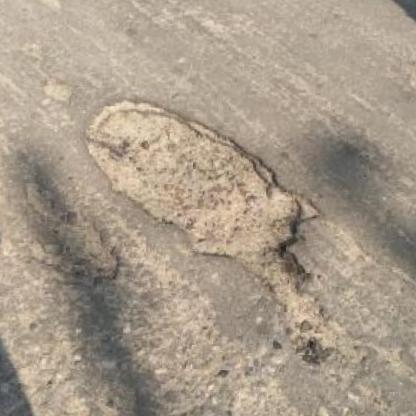pothole: (77, 93, 343, 329), (15, 174, 125, 285), (40, 76, 77, 103), (399, 58, 416, 113)
